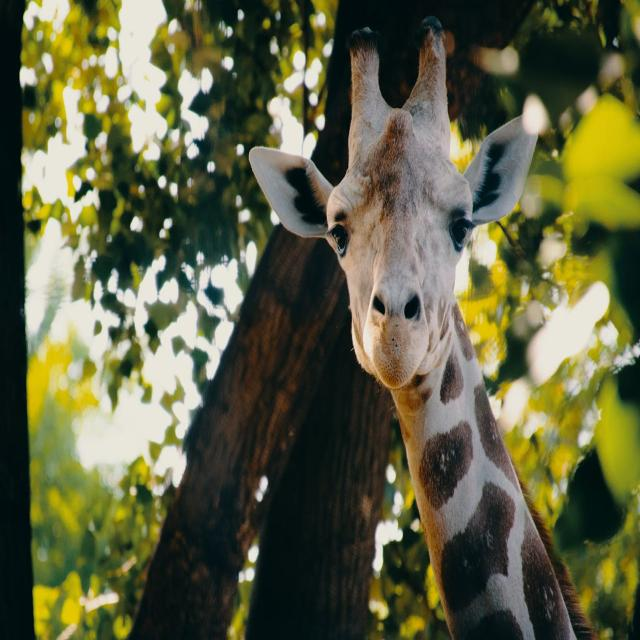Giraffe: (255, 15, 608, 640)
